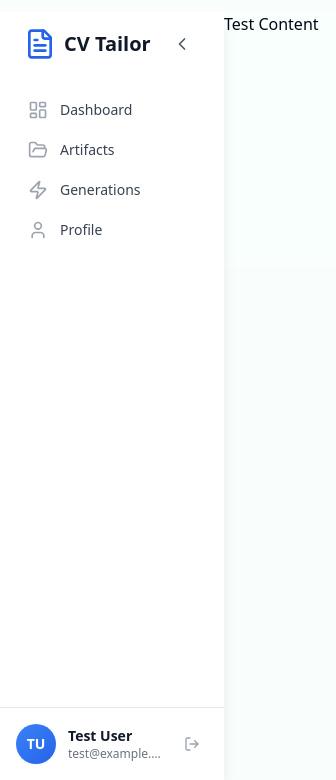
Test: Layout Component - Collapsible Sidebar (ft-021) › 8. Main Content Area Adjustment › should change to pl-20 padding when sidebar is collapsed
The width and height of the screenshot is (336, 780).
Step 1. Click the button named "collapse sidebar" → coordinates (182, 44), box [164, 26, 200, 62]
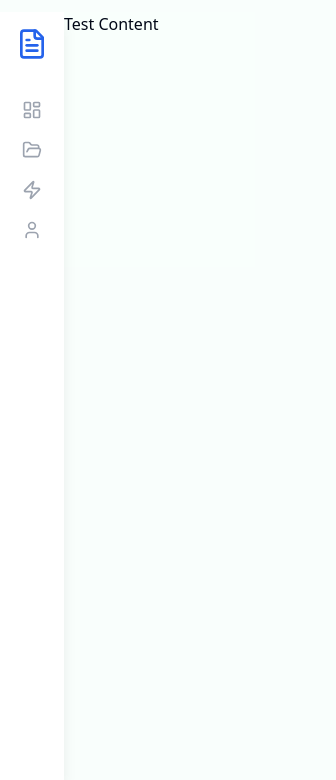
expect the element showing "Test Content" is shown: met, box [64, 13, 158, 35]
